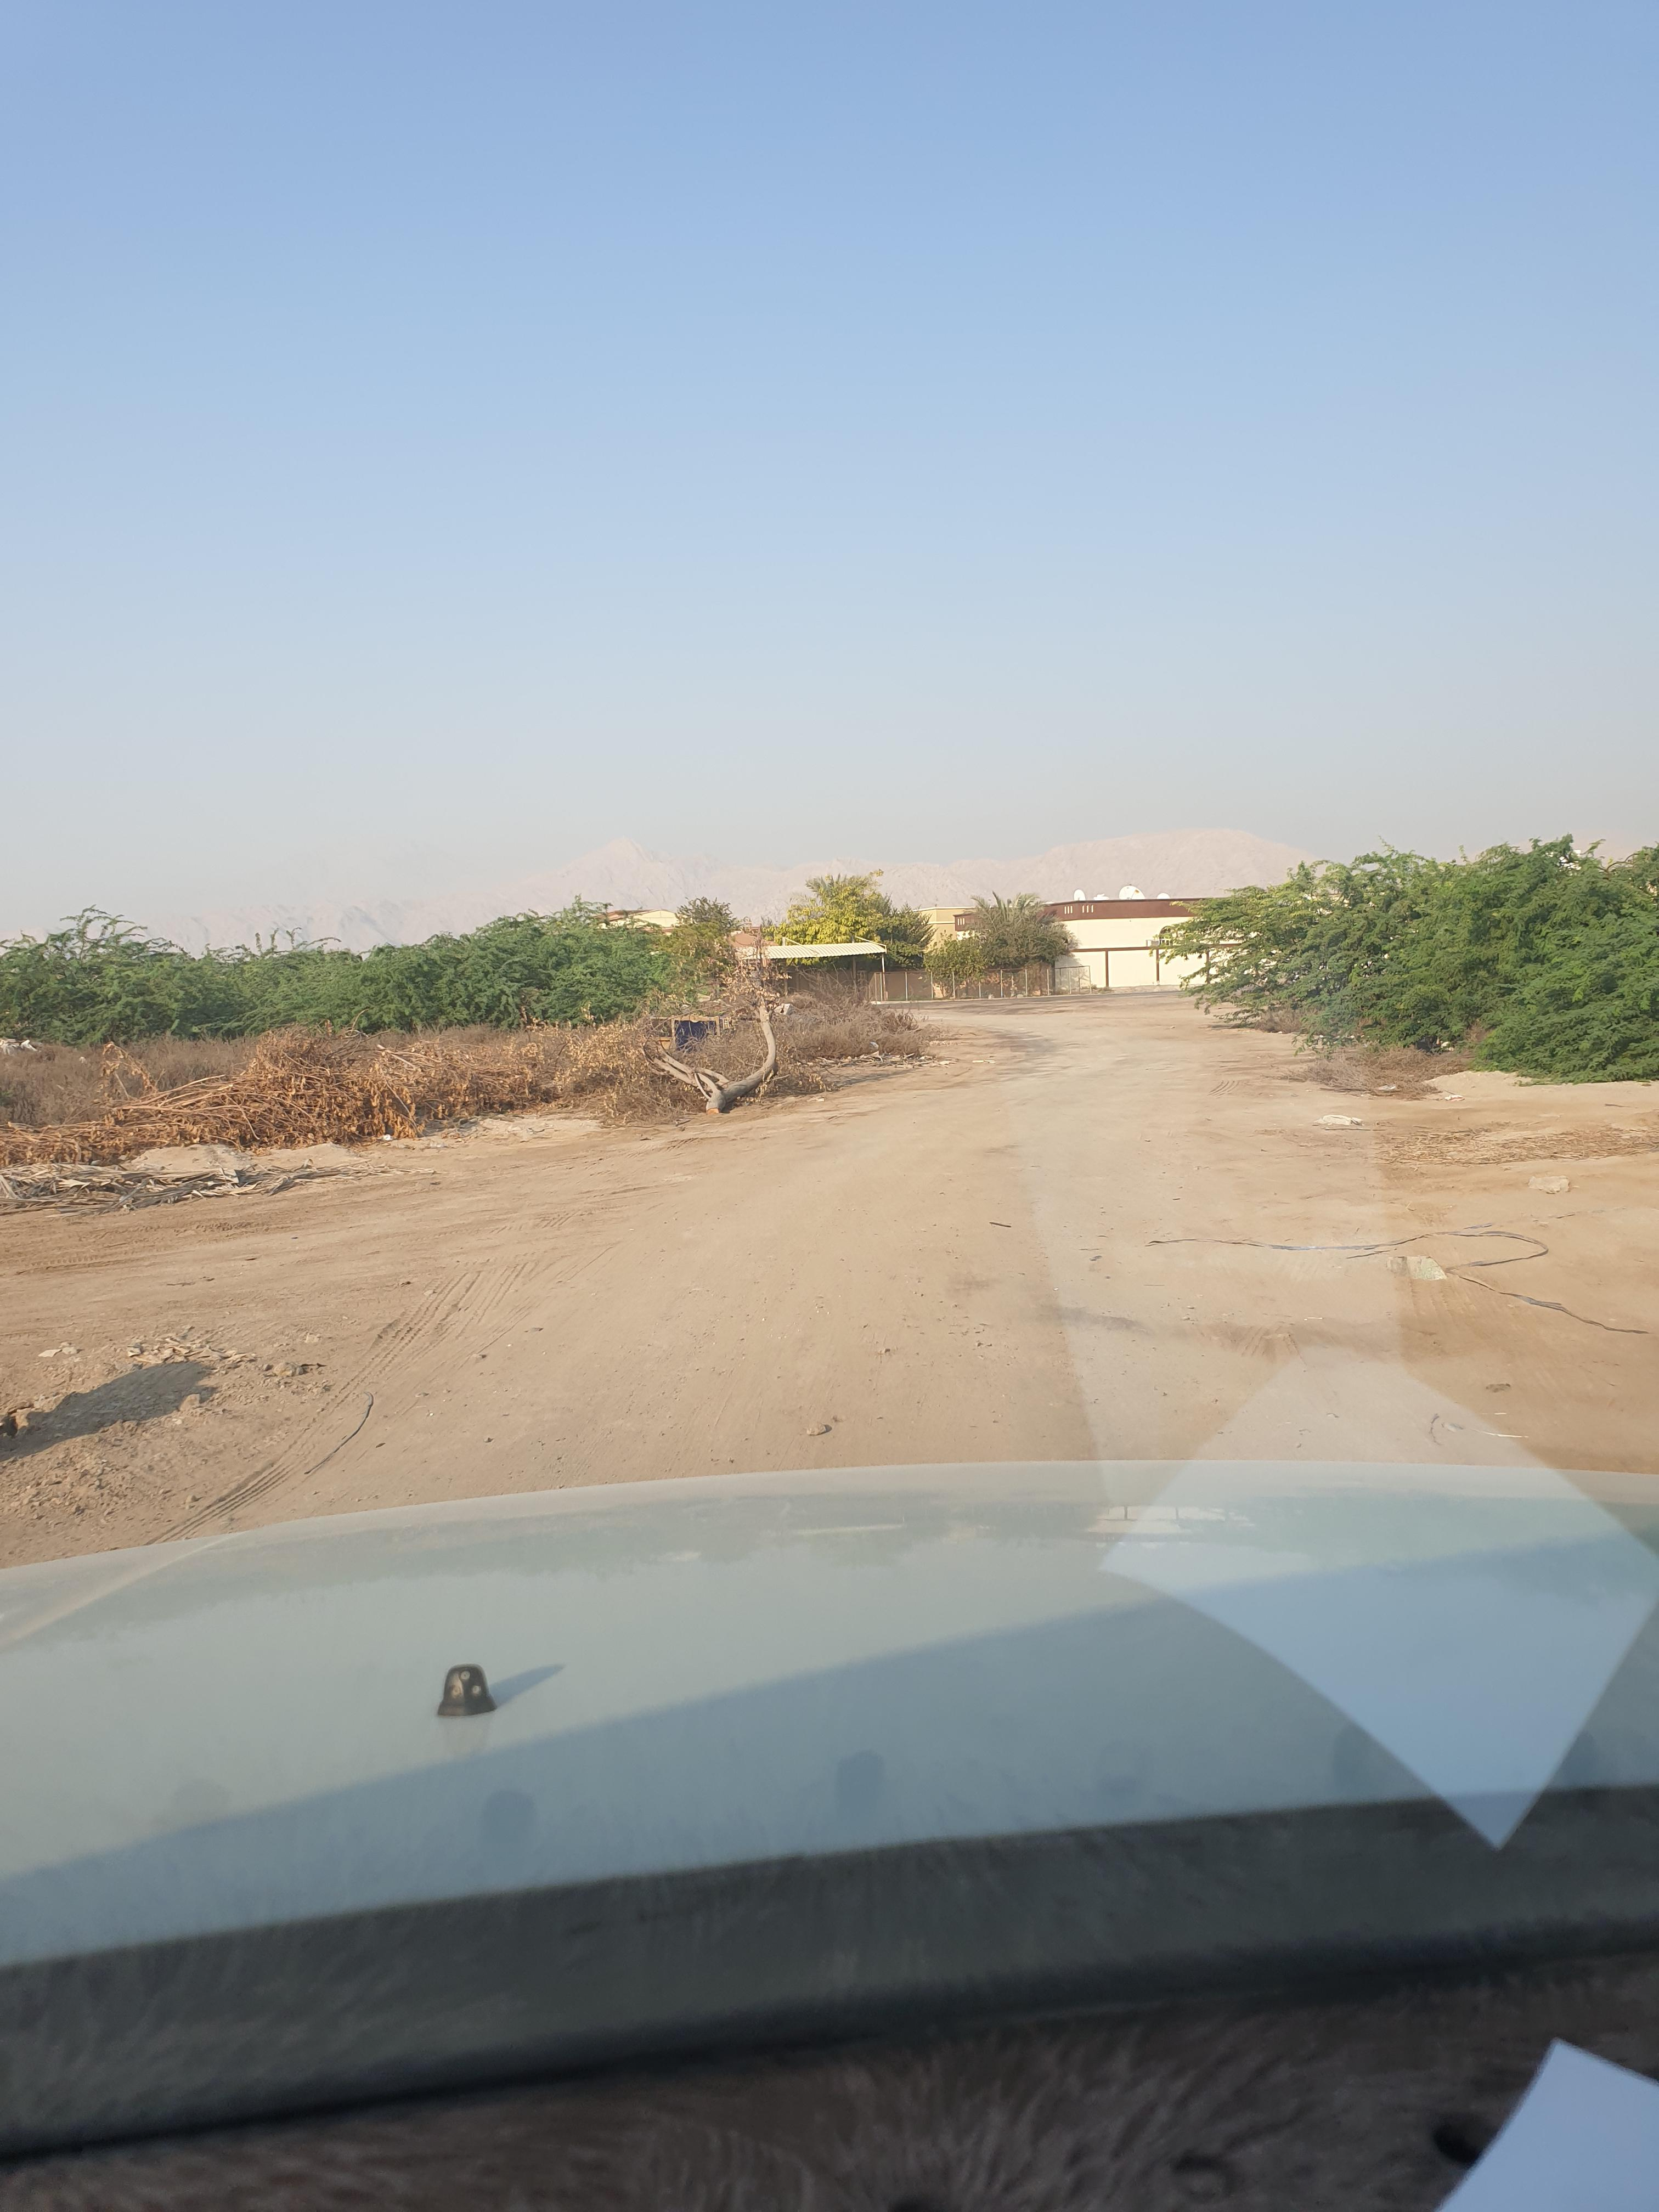fallen_trees: (42, 1148, 364, 1240), (615, 1050, 845, 1144), (464, 1080, 674, 1143), (864, 1033, 969, 1092)
